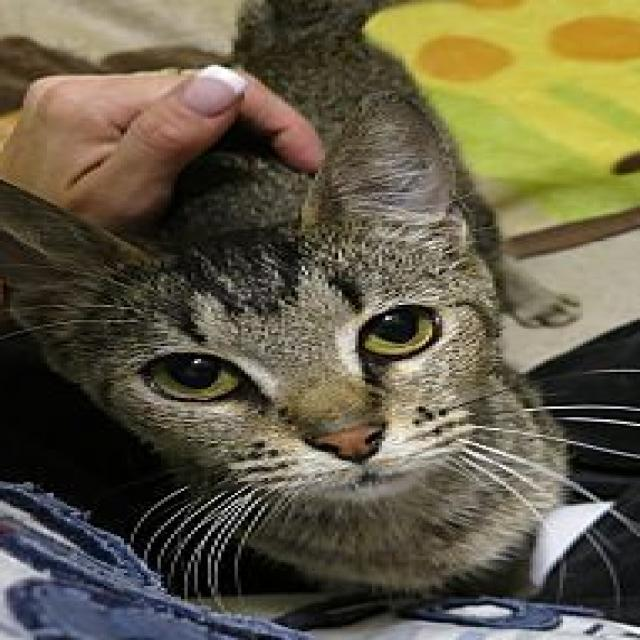Abyssinian: (0, 0, 586, 597)
